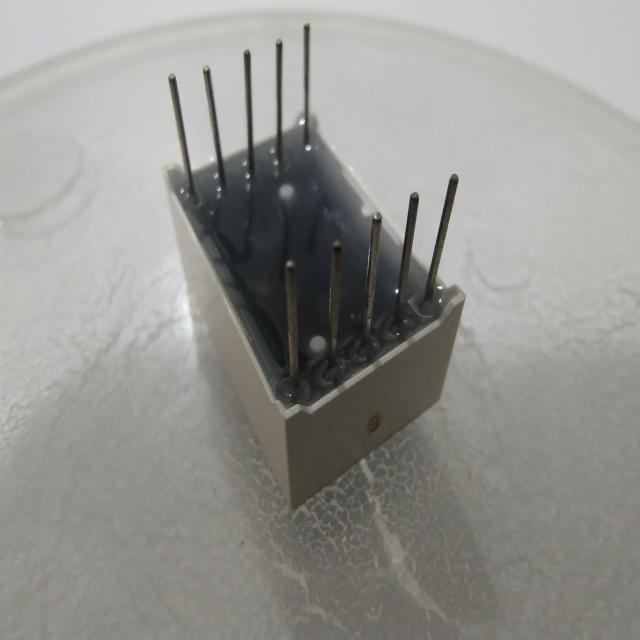7_segments: (132, 13, 474, 524)
